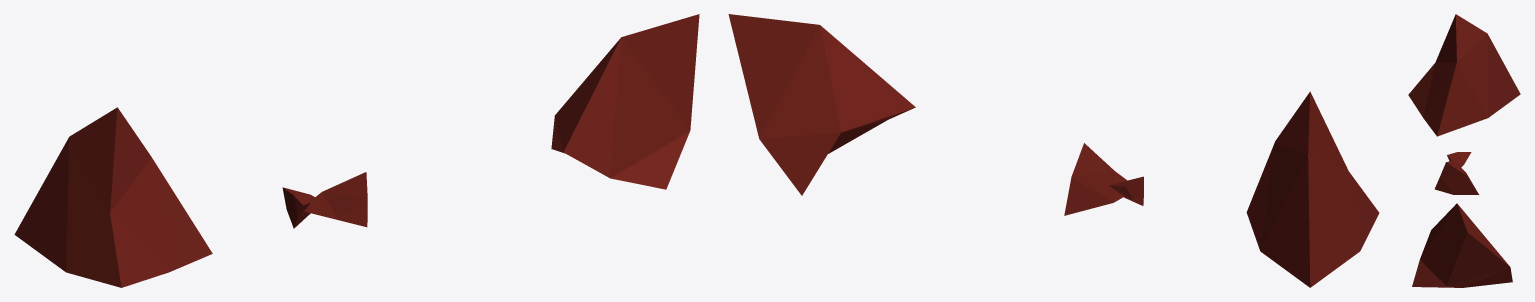
File: Piedras_casa.fbx
3 renders of one model, left to right at view 1: azimuth 30°, elevation 25°; view 2: azimuth 150°, elevation 25°; view 3: azimuth 270°, elevation 25°, orthographic. The views are drawn at different scales.
Parts seen in each view (by area): view 1: Solid, Solid.001, Solid.003, Solid.002; view 2: Solid.001, Solid, Solid.003, Solid.002; view 3: Solid, Solid.001, Solid.003, Solid.002.
Part boxes in pixels (<box>): Solid: <box>14,107,212,287</box>; Solid.001: <box>551,14,699,189</box>; Solid.003: <box>304,172,367,227</box>; Solid.002: <box>282,187,314,228</box>; Solid.001: <box>728,14,915,195</box>; Solid: <box>1246,91,1379,287</box>; Solid.003: <box>1064,143,1127,215</box>; Solid.002: <box>1109,176,1143,205</box>; Solid: <box>1408,14,1520,136</box>; Solid.001: <box>1412,203,1512,287</box>; Solid.003: <box>1435,160,1478,194</box>; Solid.002: <box>1447,152,1471,167</box>.
Size of the model in its own units: 3441 by 982 by 828.
